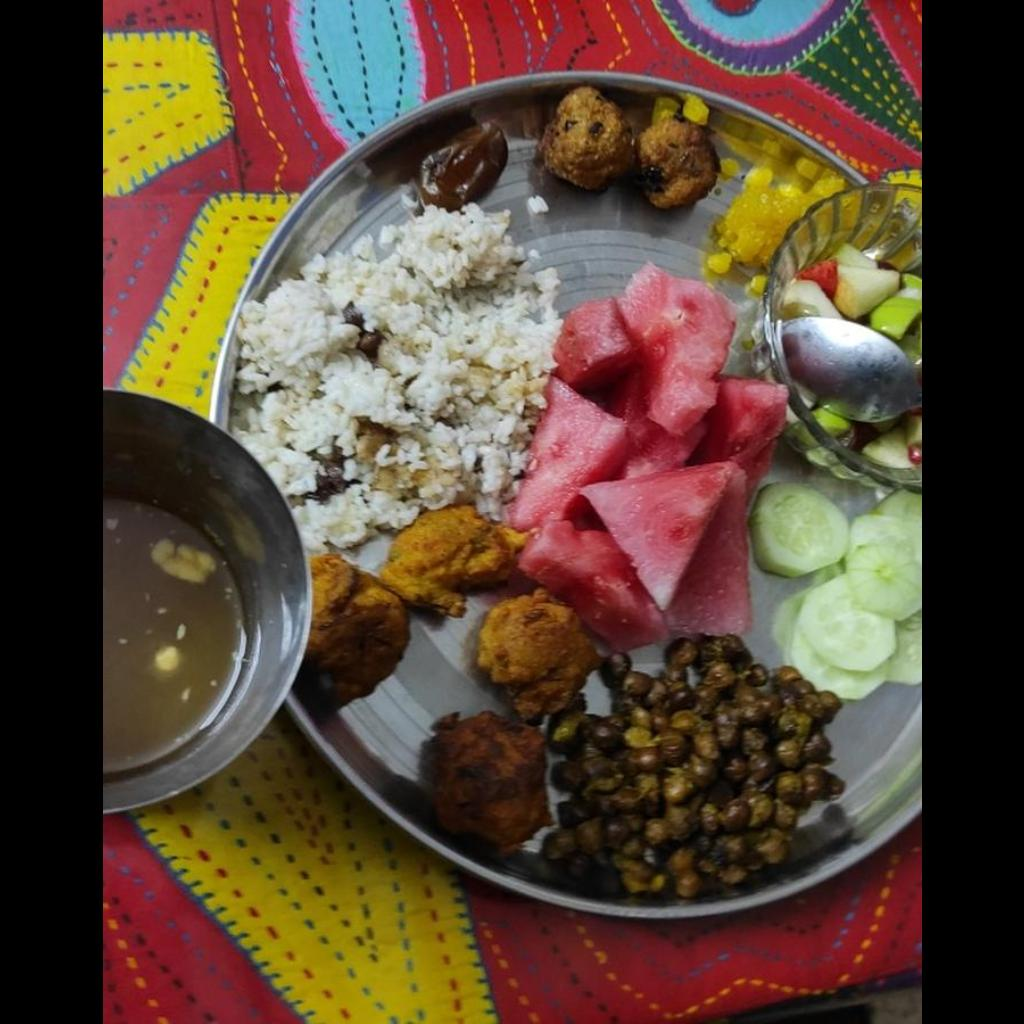biriyani: (241, 212, 560, 532)
burinda: (705, 157, 845, 275)
chola: (549, 644, 849, 909)
cucumber: (761, 487, 920, 700)
dates: (424, 120, 507, 199)
piyaju: (429, 588, 600, 852), (301, 505, 524, 707), (102, 501, 242, 775)
salad: (781, 246, 920, 374), (814, 405, 920, 470)
vorta: (535, 86, 719, 208)
watermelon: (512, 268, 776, 648)
